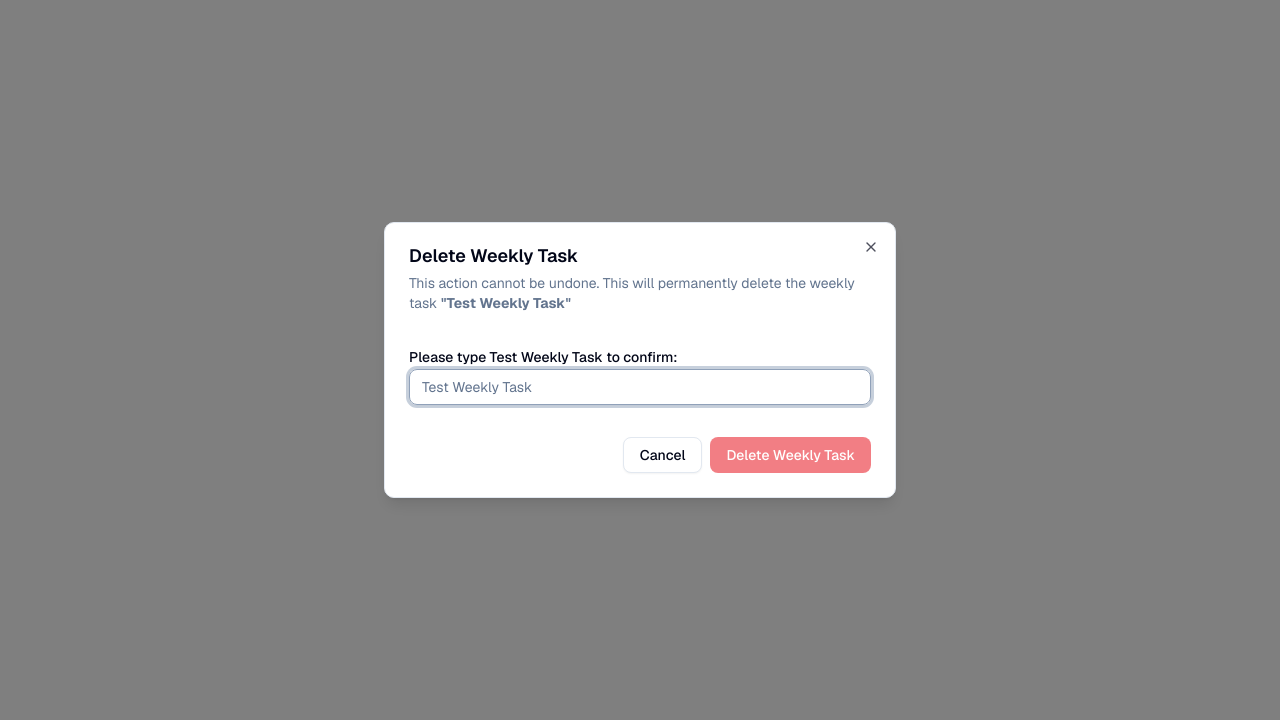
Test: DeleteWeeklyTaskDialog › requires exact title to enable delete button
Expected: the button "Delete Weekly Task" is disabled, [710,437,871,473]
Type "Wrong Name" into the field with placeholder "Test Weekly Task" at (640, 387), box [409,369,871,405]
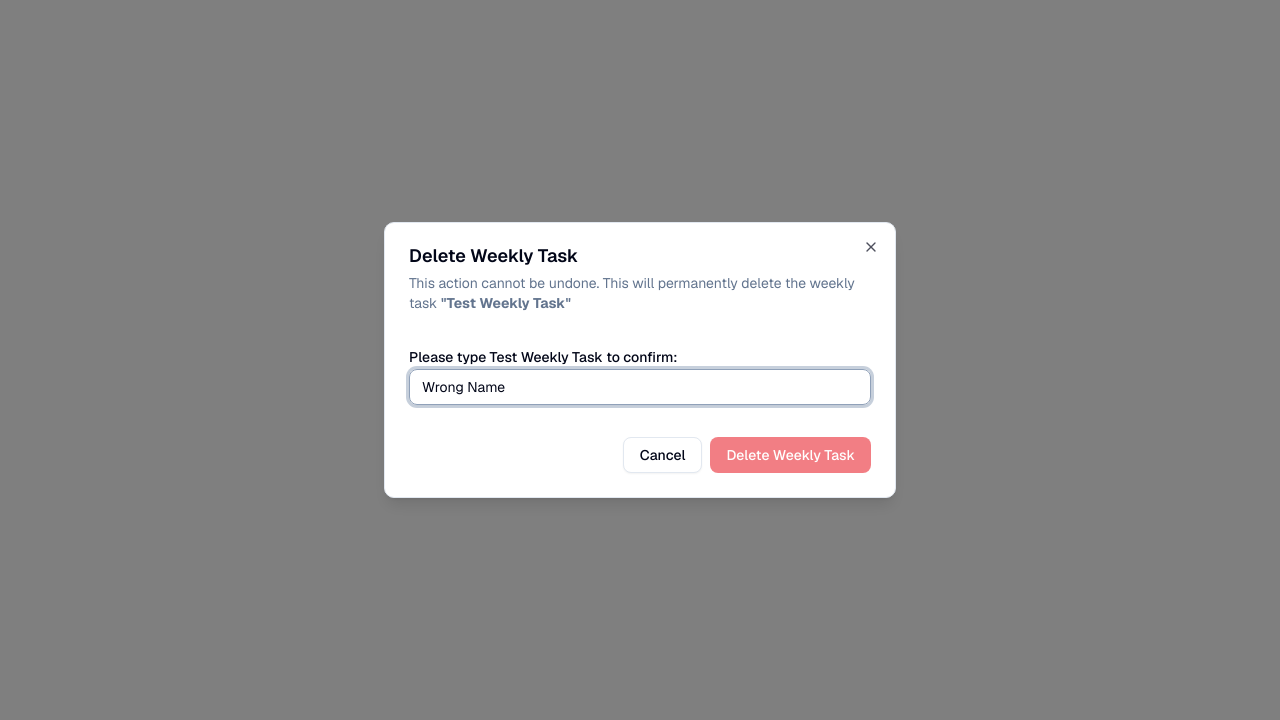
Expected: the button "Delete Weekly Task" is disabled, [710,437,871,473]
Replace the text in the field with placeholder "Test Weekly Task" with "Test Weekly Task" at (640, 387), box [409,369,871,405]
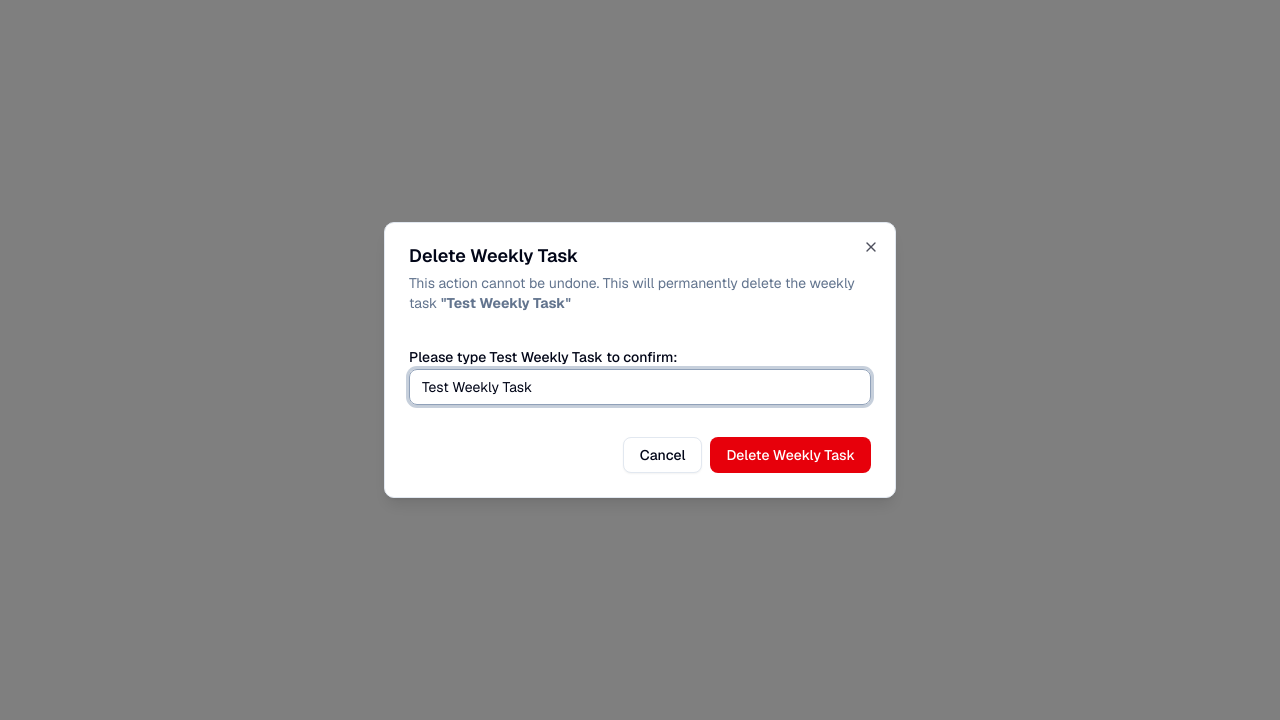
Expected: the button "Delete Weekly Task" is enabled, [710,437,871,473]
